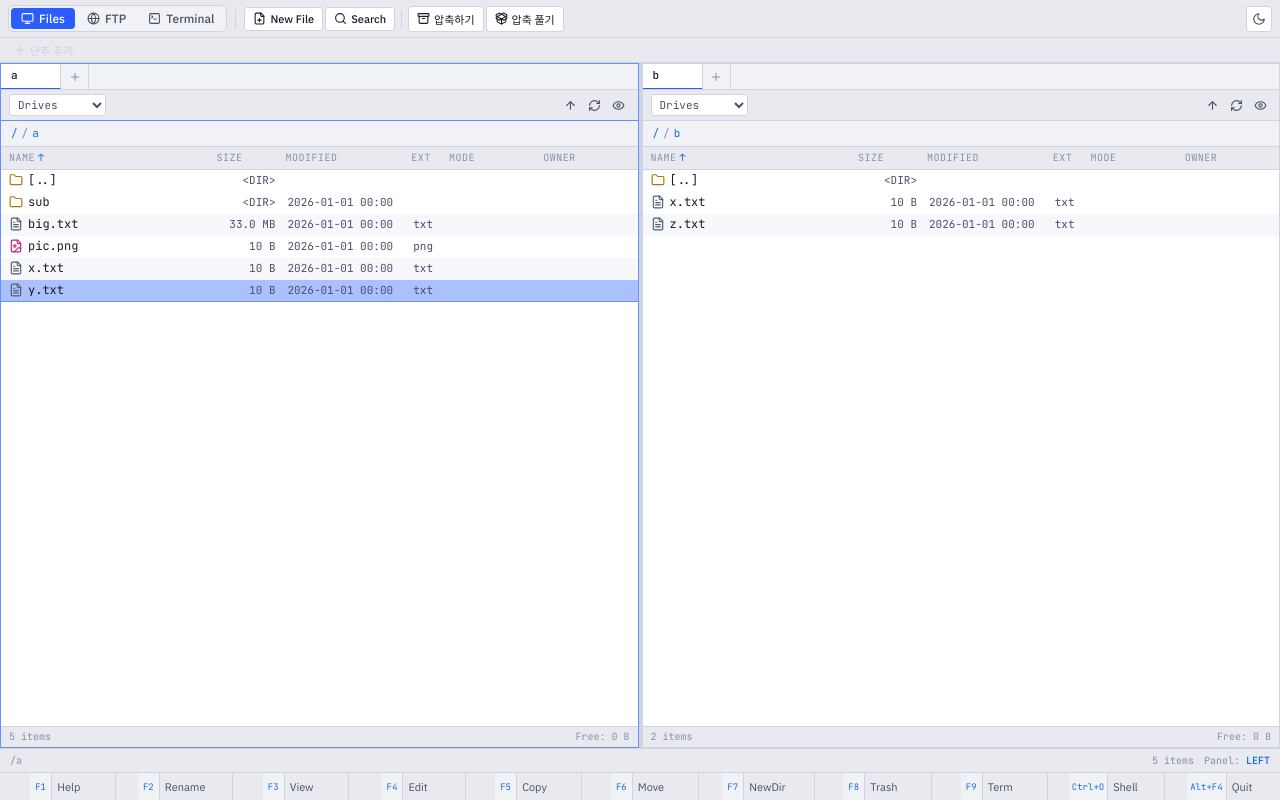
Test case: App 커버리지 — 휴지통/영구 삭제 › AP-05: Shift+Delete → 영구 삭제 확인 → DeleteItems
The image size is (1280, 800).
Expected: the text "y.txt" is shown, [28,282,64,299]
Press Delete
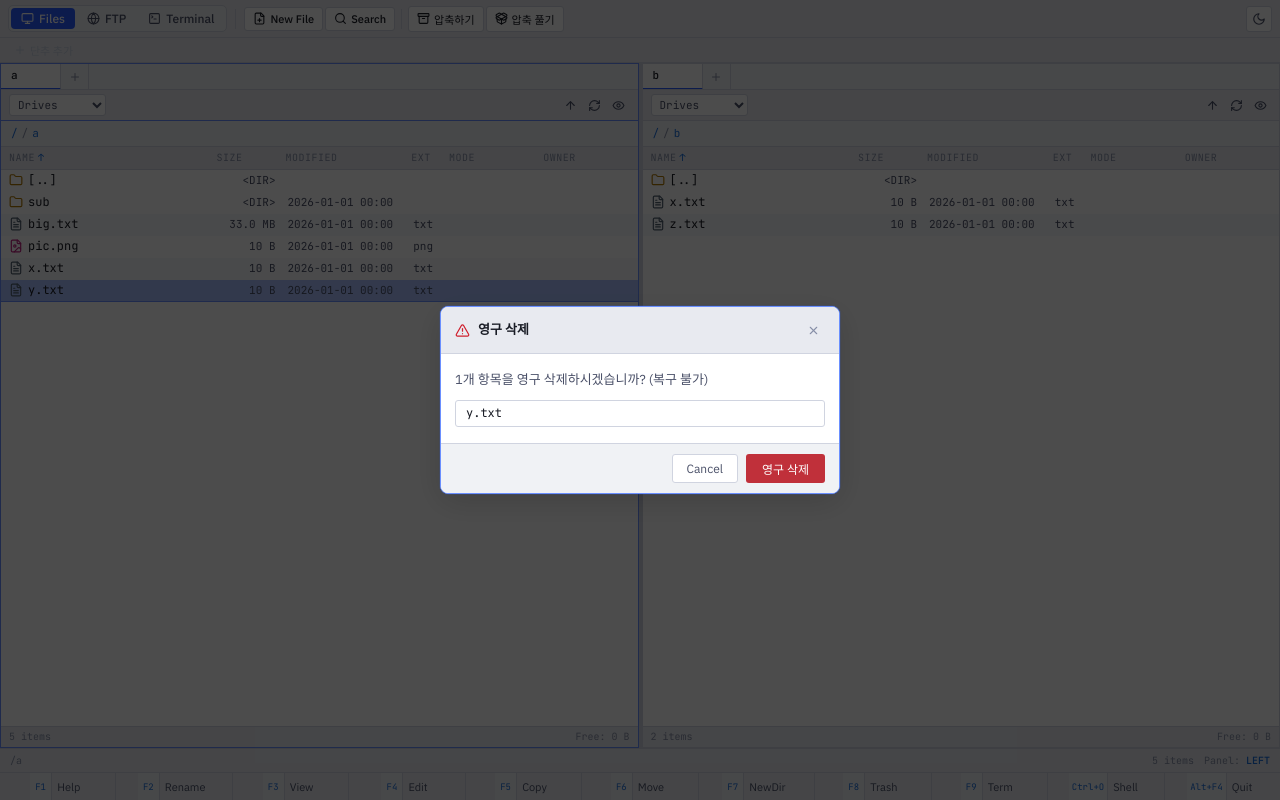
Now the text "1개 항목을 영구 삭제하시겠습니까? (복구 불가)" is shown, box [455,371,708,388]
Click the button "영구 삭제" at (786, 468), box [746,454,825,483]
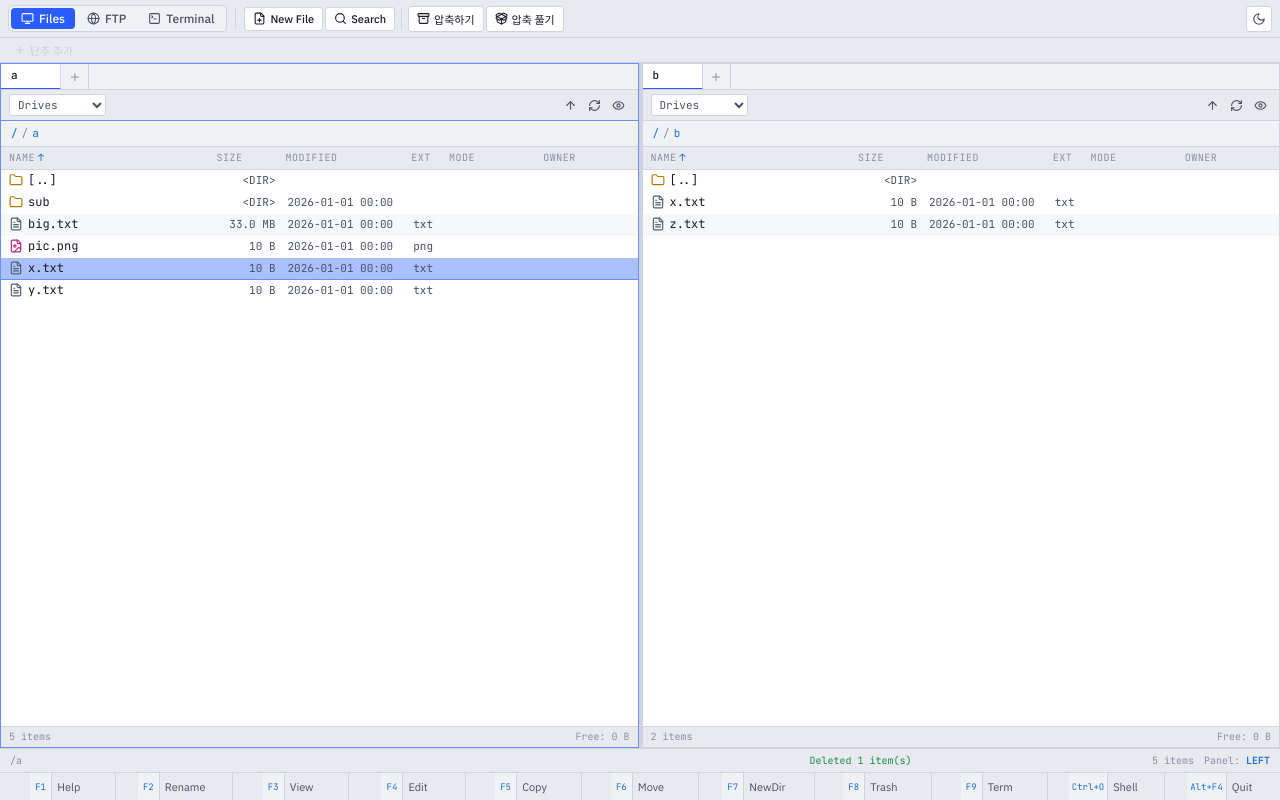
Now the text "영구 삭제하시겠습니까" is gone
